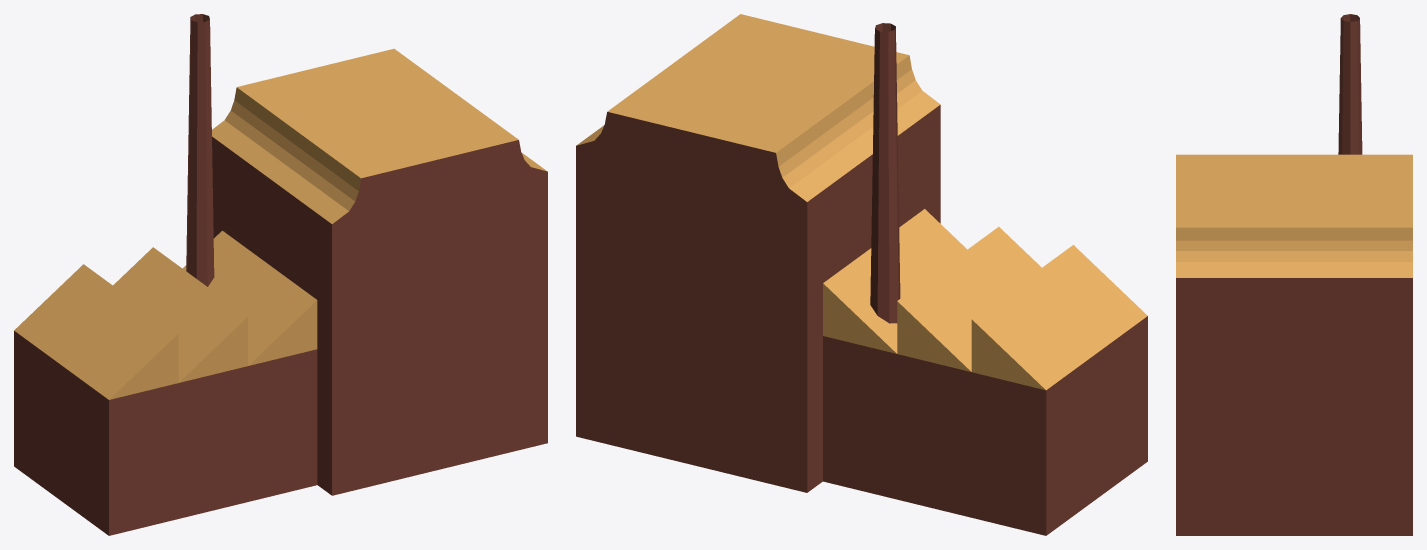
The model's file is Factory.fbx.
3 views of the same model, side by side, from view 1: azimuth 30°, elevation 25°; view 2: azimuth 150°, elevation 25°; view 3: azimuth 270°, elevation 25° (orthographic). The views are drawn at different scales.
Visible parts, largest first — view 1: Cube; view 2: Cube; view 3: Cube.
Part boxes in pixels (x1=…): Cube: x1=14, y1=14, x2=547, y2=535; Cube: x1=576, y1=14, x2=1147, y2=535; Cube: x1=1176, y1=14, x2=1412, y2=535.
Bounding box in the file's own units: 4110 × 3893 × 2091.
